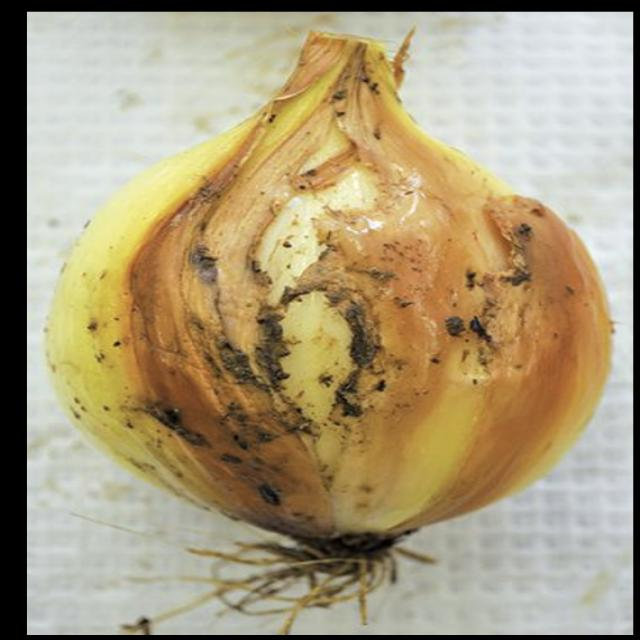mechanical_damage: (43, 29, 612, 634), (176, 198, 421, 438), (465, 213, 529, 368), (0, 366, 7, 388)
